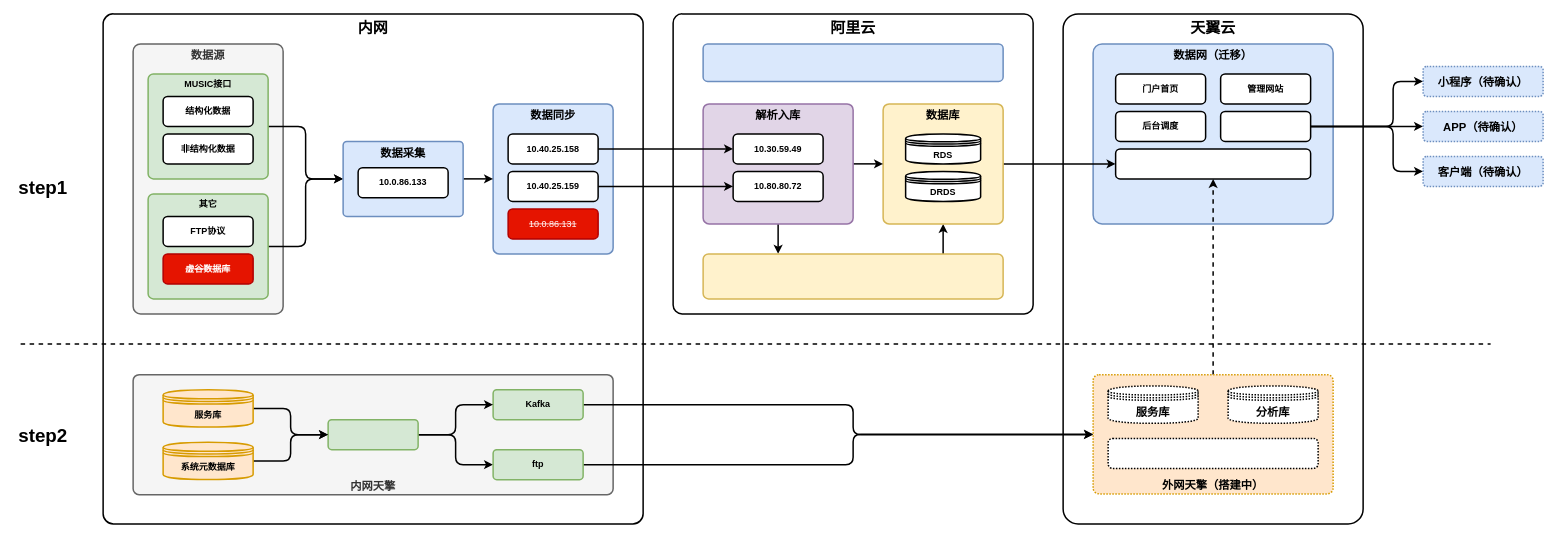
Some shapes in this 1556 by 537 pixel diagram are drawn without their labels. Here are the shapes that lost their labels. From the top down, the centre of each, then its label:
the point at 853,62: 数据网（废弃）
the point at 1265,126: 通用接口
the point at 1212,163: 检索接口
the point at 853,276: OSS文件服务器
the point at 372,434: 存储管理
the point at 1212,453: NAS
